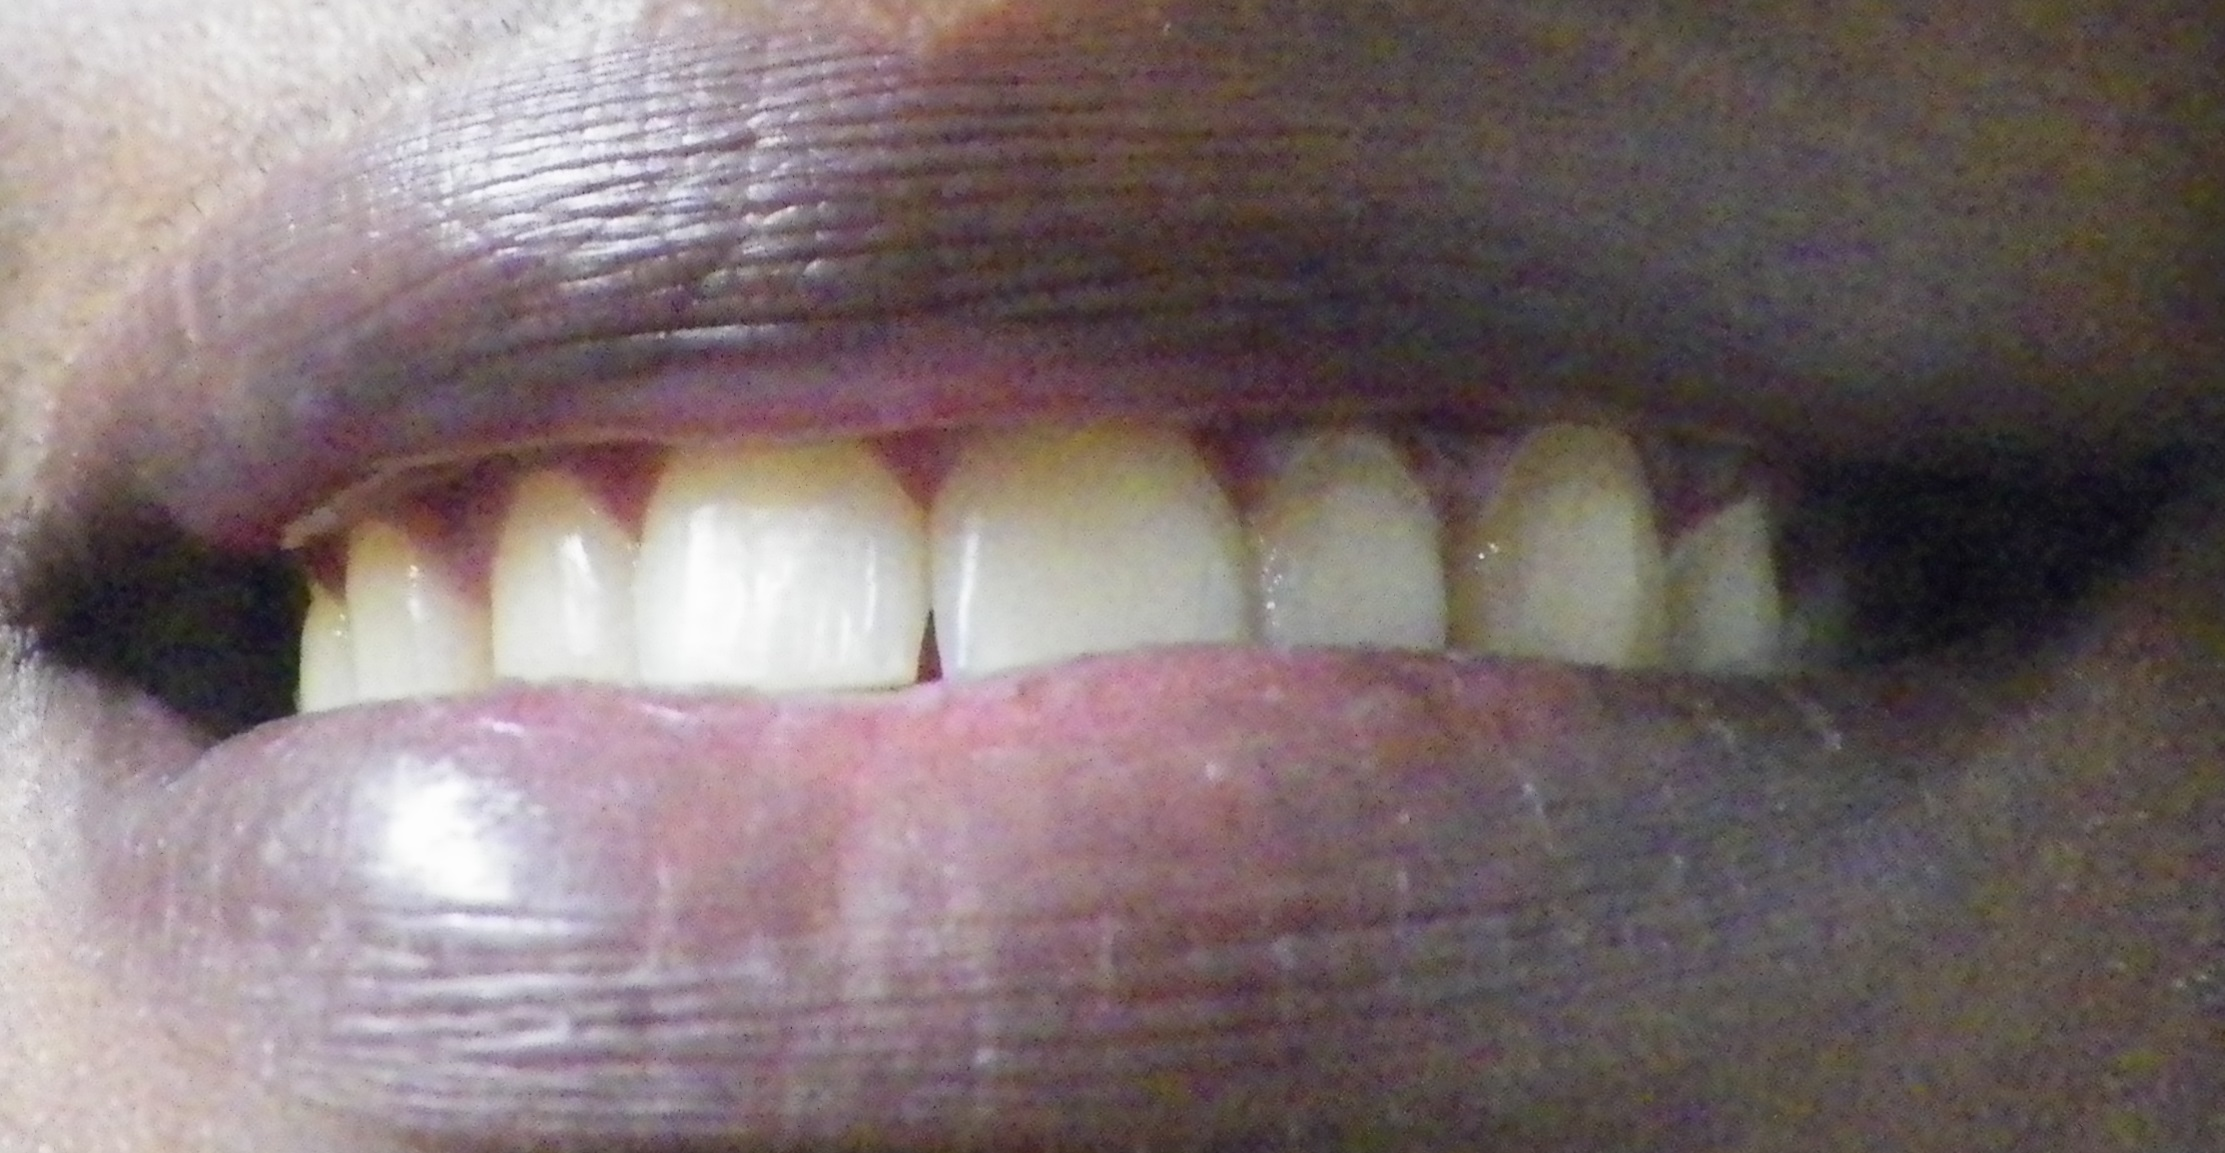boca: (275, 440, 1857, 713)
